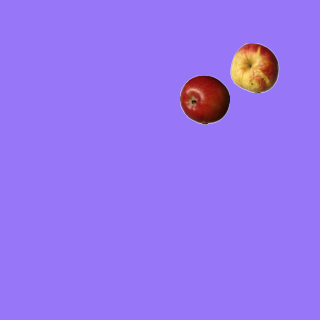Apple Braeburn: (179, 74, 229, 124)
Apple Red Yellow 1: (229, 42, 279, 92)
